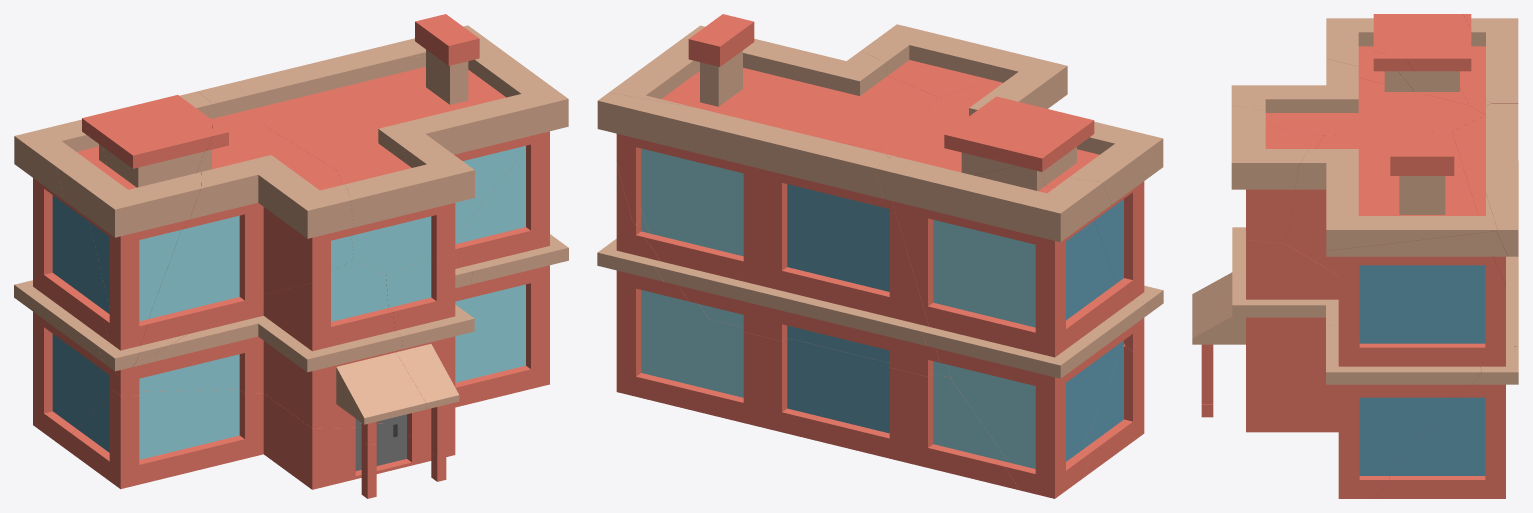
The model's file is House 3.1 Fractured.fbx.
The picture shows the model from 3 angles, left to right: view 1: azimuth 30°, elevation 25°; view 2: azimuth 150°, elevation 25°; view 3: azimuth 270°, elevation 25°; orthographic projection. The views are drawn at different scales.
Parts seen in each view (by area): view 1: House_Type3_1_Breaking_cell.010, House_Type3_1_Breaking_cell.002, House_Type3_1_Breaking_cell.011, House_Type3_1_Breaking_cell.009, House_Type3_1_Breaking_cell.004, House_Type3_1_Breaking_cell.008, House_Type3_1_Breaking_cell.007, House_Type3_1_Breaking_cell.005, House_Type3_1_Breaking_cell.003, House_Type3_1_Breaking_cell.006; view 2: House_Type3_1_Breaking_cell.006, House_Type3_1_Breaking_cell.008, House_Type3_1_Breaking_cell.001, House_Type3_1_Breaking_cell.011, House_Type3_1_Breaking_cell.004, House_Type3_1_Breaking_cell, House_Type3_1_Breaking_cell.002, House_Type3_1_Breaking_cell.005, House_Type3_1_Breaking_cell.009; view 3: House_Type3_1_Breaking_cell.007, House_Type3_1_Breaking_cell.011, House_Type3_1_Breaking_cell.003, House_Type3_1_Breaking_cell.002, House_Type3_1_Breaking_cell, House_Type3_1_Breaking_cell.004, House_Type3_1_Breaking_cell.006, House_Type3_1_Breaking_cell.005, House_Type3_1_Breaking_cell.008, House_Type3_1_Breaking_cell.010.
Boxes of the visible parts, bbox=[...] form: House_Type3_1_Breaking_cell.010: bbox=[113, 260, 426, 444]; House_Type3_1_Breaking_cell.002: bbox=[136, 102, 353, 362]; House_Type3_1_Breaking_cell.011: bbox=[262, 14, 568, 237]; House_Type3_1_Breaking_cell.009: bbox=[60, 389, 446, 498]; House_Type3_1_Breaking_cell.004: bbox=[56, 95, 212, 376]; House_Type3_1_Breaking_cell.008: bbox=[14, 91, 210, 444]; House_Type3_1_Breaking_cell.007: bbox=[455, 121, 568, 407]; House_Type3_1_Breaking_cell.005: bbox=[337, 144, 474, 274]; House_Type3_1_Breaking_cell.003: bbox=[386, 247, 474, 465]; House_Type3_1_Breaking_cell.006: bbox=[197, 25, 478, 123]; House_Type3_1_Breaking_cell.006: bbox=[597, 92, 950, 377]; House_Type3_1_Breaking_cell.008: bbox=[874, 150, 1150, 498]; House_Type3_1_Breaking_cell.001: bbox=[702, 319, 1020, 490]; House_Type3_1_Breaking_cell.011: bbox=[609, 14, 937, 149]; House_Type3_1_Breaking_cell.004: bbox=[939, 100, 1163, 322]; House_Type3_1_Breaking_cell: bbox=[597, 217, 708, 412]; House_Type3_1_Breaking_cell.002: bbox=[879, 55, 1067, 166]; House_Type3_1_Breaking_cell.005: bbox=[861, 24, 1022, 97]; House_Type3_1_Breaking_cell.009: bbox=[1082, 338, 1144, 478]; House_Type3_1_Breaking_cell.007: bbox=[1326, 231, 1507, 498]; House_Type3_1_Breaking_cell.011: bbox=[1285, 131, 1497, 275]; House_Type3_1_Breaking_cell.003: bbox=[1192, 239, 1338, 432]; House_Type3_1_Breaking_cell.002: bbox=[1231, 51, 1490, 135]; House_Type3_1_Breaking_cell: bbox=[1375, 335, 1518, 498]; House_Type3_1_Breaking_cell.004: bbox=[1326, 14, 1471, 105]; House_Type3_1_Breaking_cell.006: bbox=[1452, 103, 1518, 346]; House_Type3_1_Breaking_cell.005: bbox=[1231, 105, 1323, 243]; House_Type3_1_Breaking_cell.008: bbox=[1460, 14, 1518, 223]; House_Type3_1_Breaking_cell.010: bbox=[1192, 227, 1245, 322].
Size of the model in its own units: 971 by 688 by 632.
